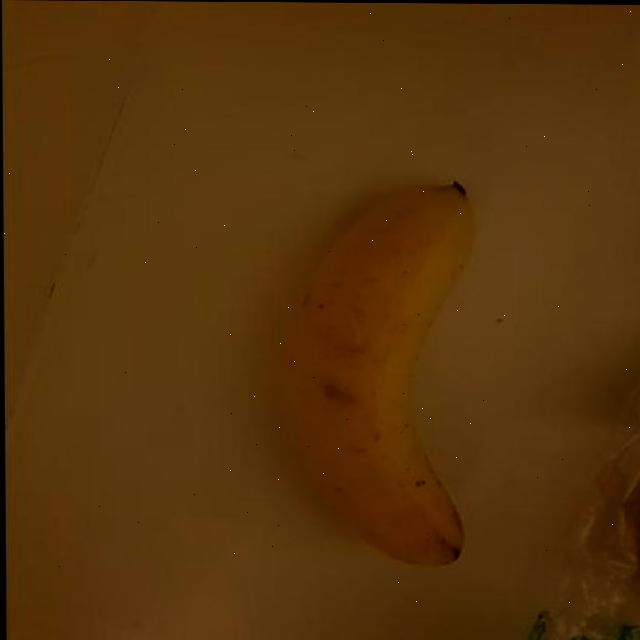banana: (259, 169, 493, 576)
